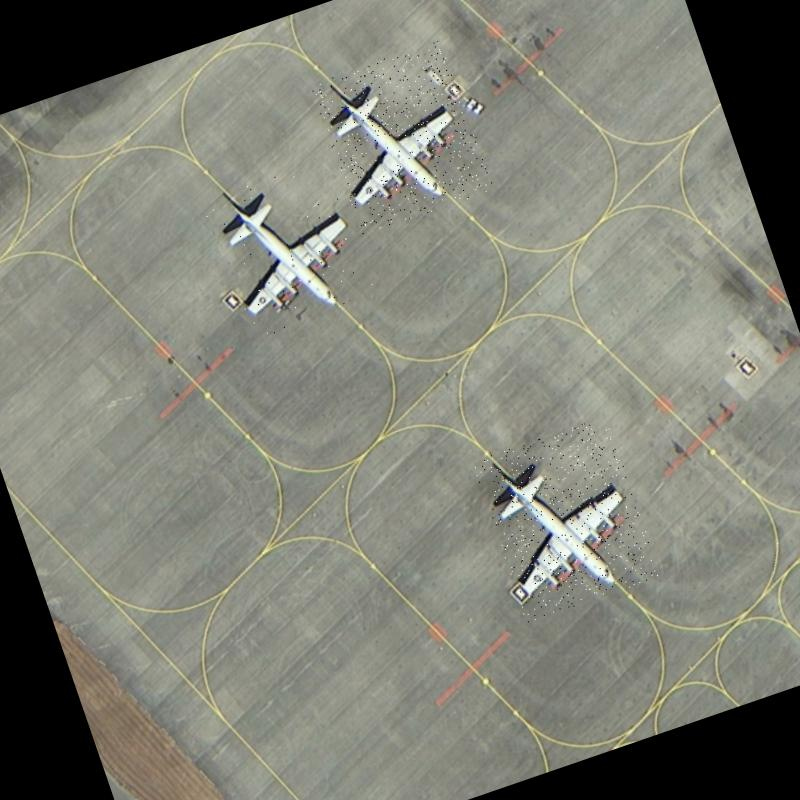A9: (471, 416, 662, 623), (311, 39, 494, 236), (198, 153, 378, 343)
